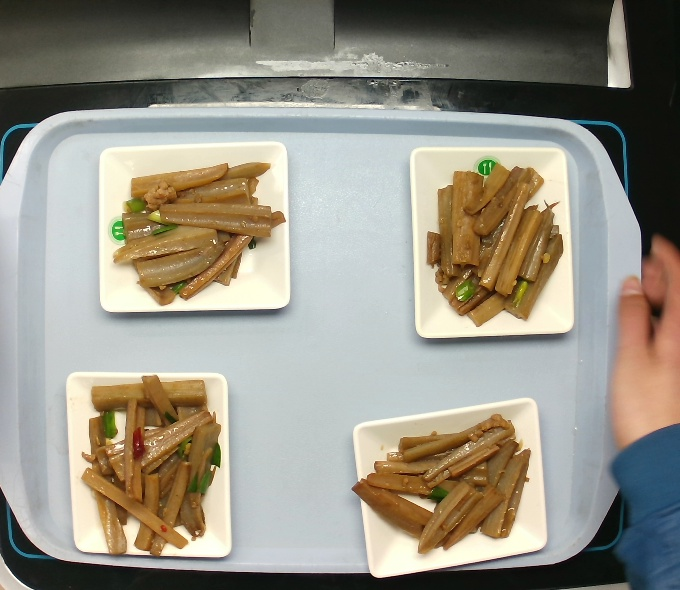wcq-QingChaoOuKuai: (106, 145, 287, 306), (76, 372, 219, 555), (357, 408, 532, 554), (419, 156, 566, 325)
